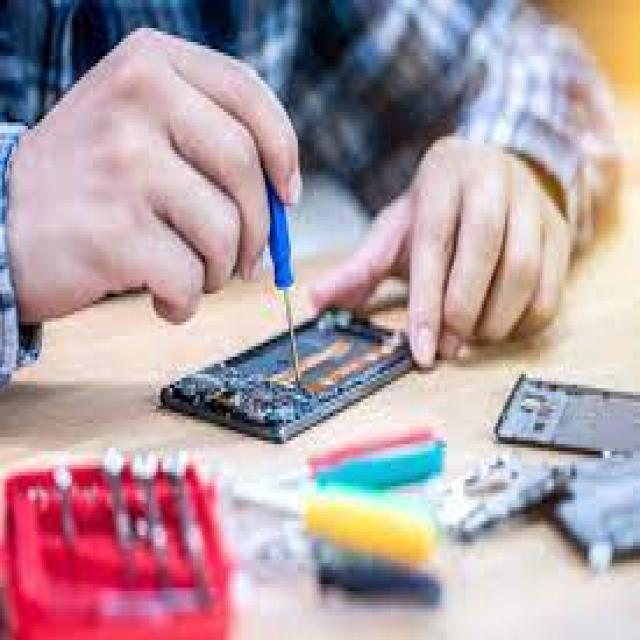screwdriver: (260, 166, 314, 394)
